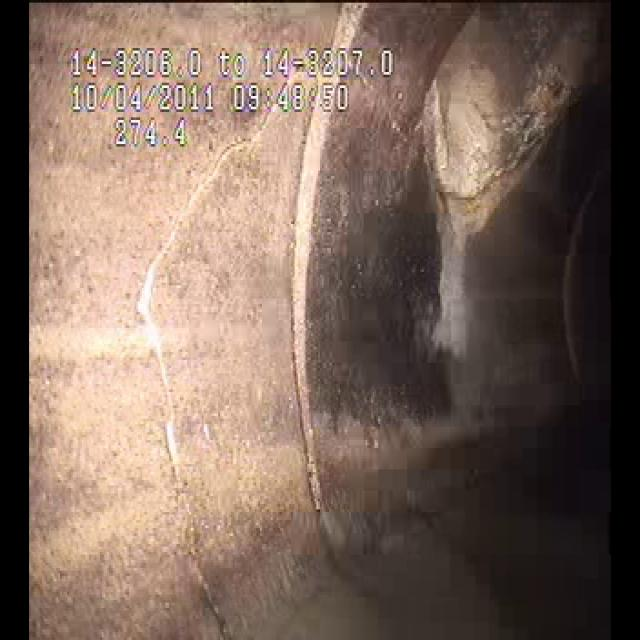Crack: (128, 171, 274, 612)
